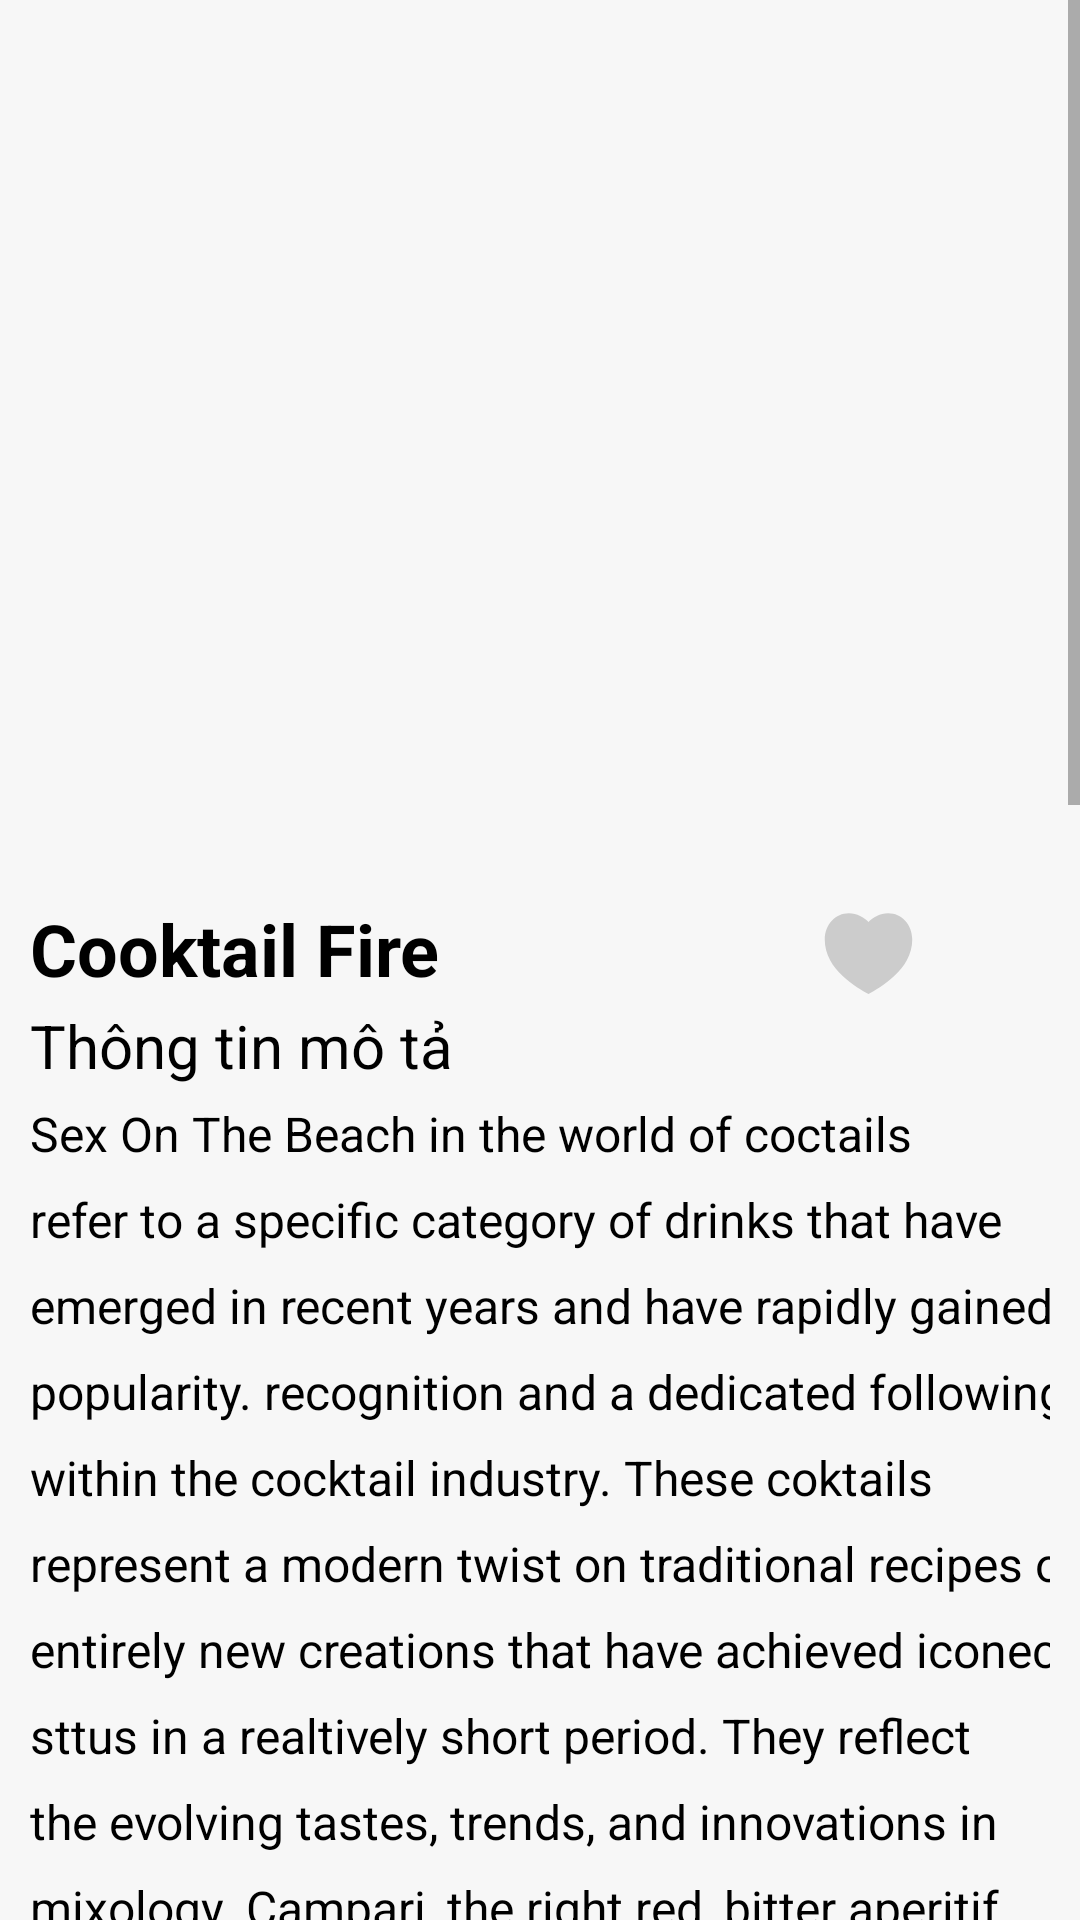

Icons on this 1080 × 1920 Android screen, each with its box as detection(x1, y1, x2, y2):
heart: detection(825, 913, 912, 994)
